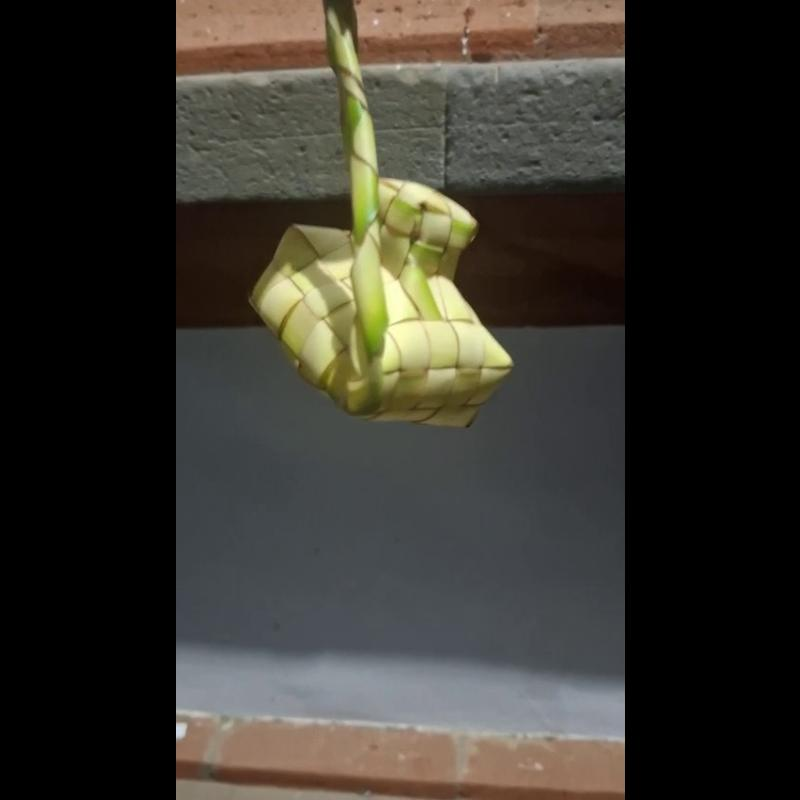Tipat Gong: (251, 0, 516, 429)
